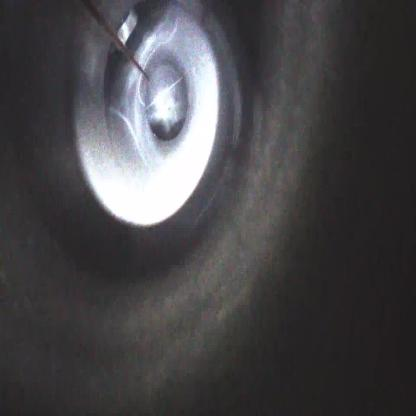NoCrack: (74, 1, 243, 233)
